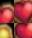heart: (14, 0, 32, 23), (0, 0, 14, 23)
